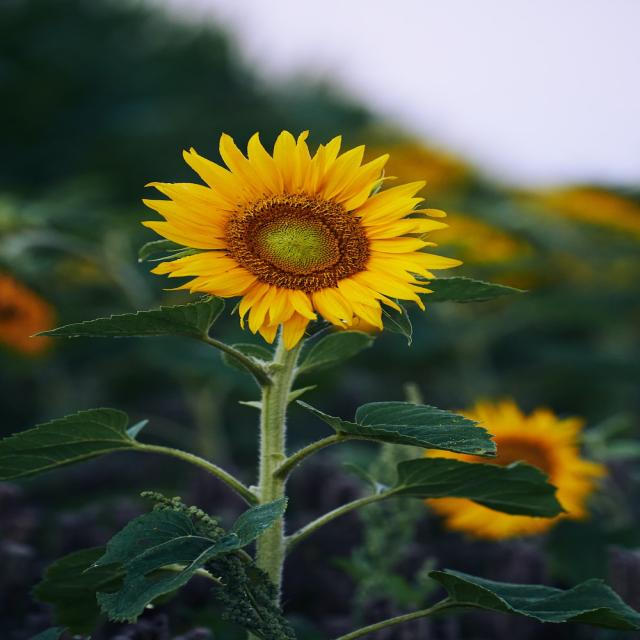sunflower: (152, 150, 482, 352), (401, 387, 614, 545), (0, 258, 81, 372)
